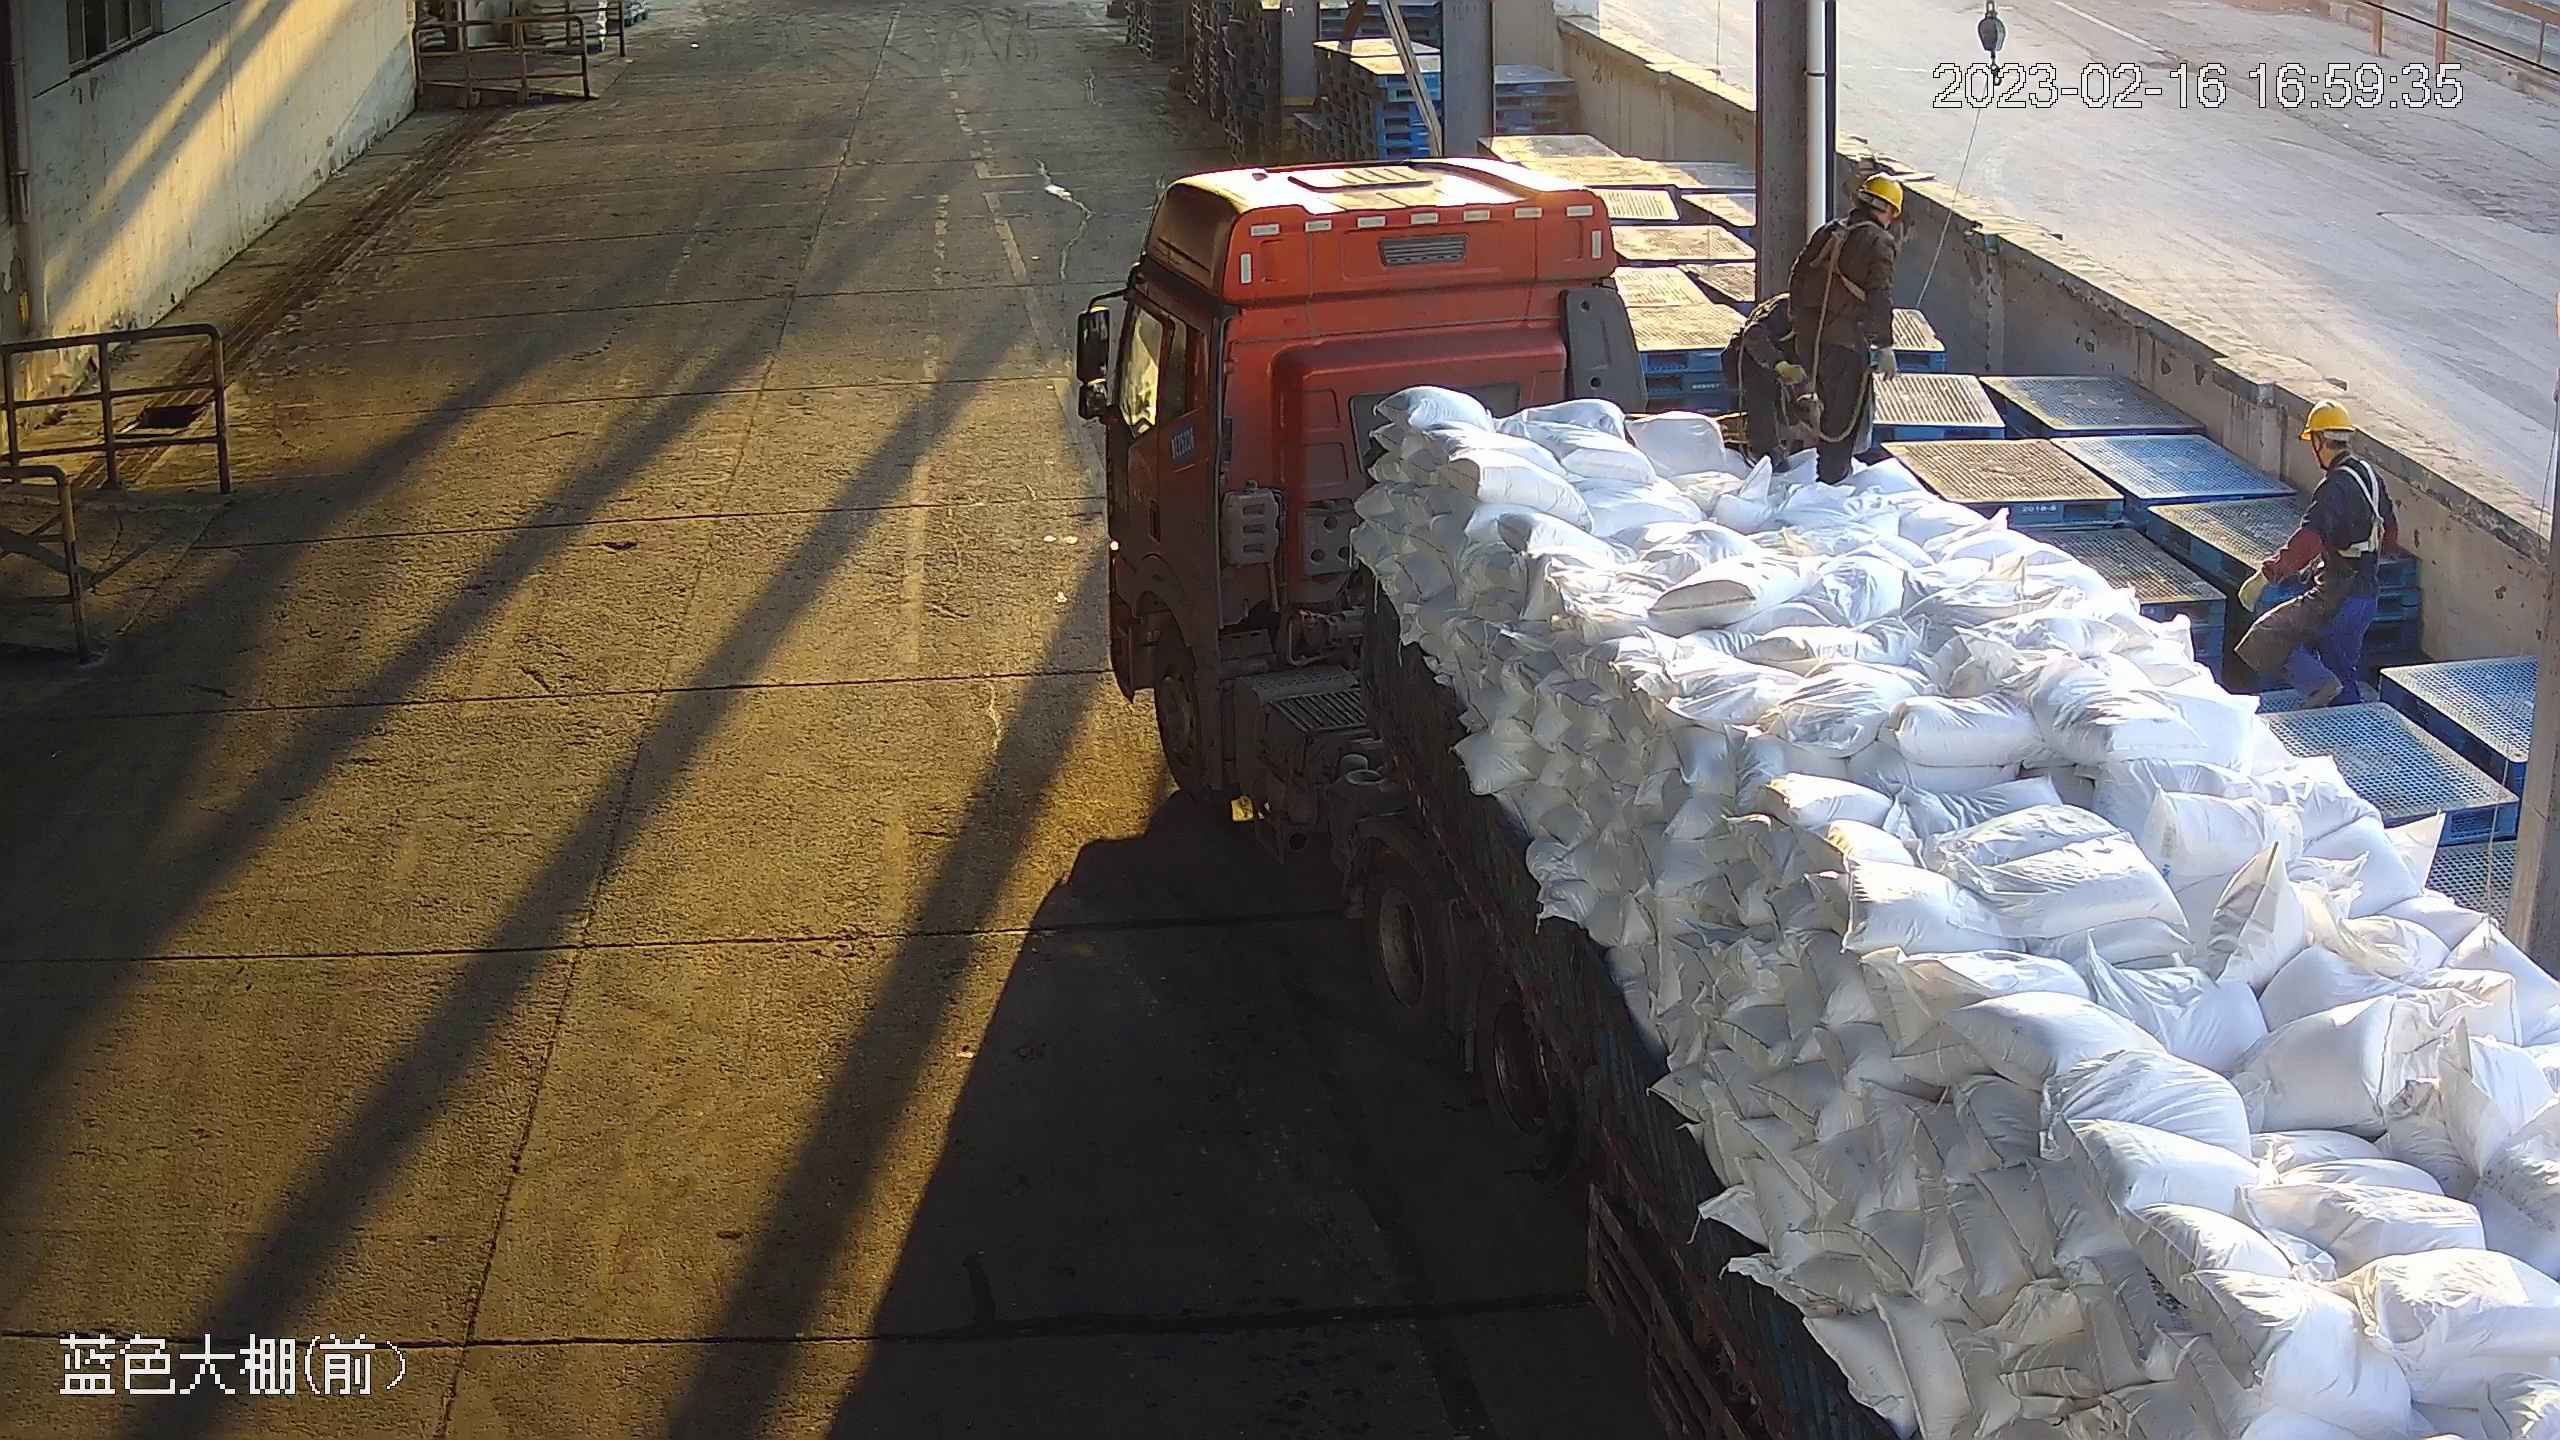belt: (2332, 462, 2397, 565), (1816, 218, 1879, 292)
head: (2292, 402, 2383, 495), (1820, 172, 1899, 267)
helmet: (2295, 399, 2353, 436), (1858, 172, 1906, 211)
people: (2230, 402, 2402, 711), (1788, 172, 1899, 485)
truck: (1062, 144, 2560, 1440)
